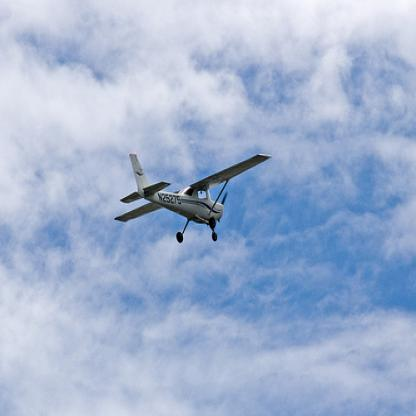aeroplane: (114, 152, 270, 244)
